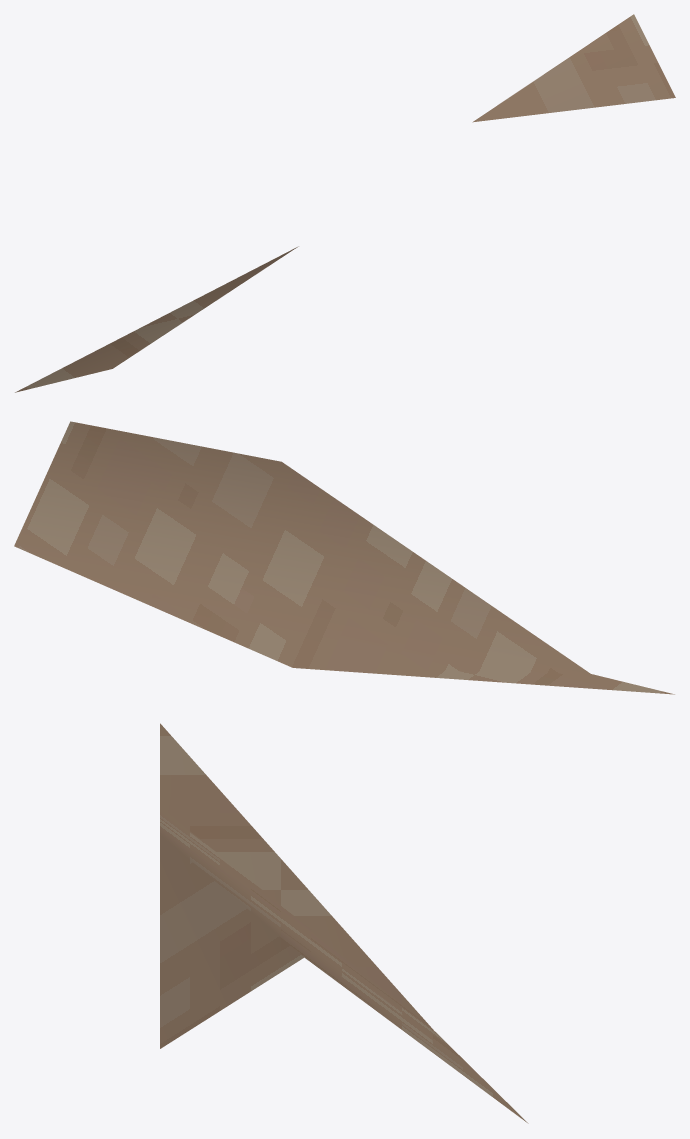
Rendered from kd_stage_135ebf_3_16_bounded.glb.
3 renders of one model, top to bottom at view 1: azimuth 30°, elevation 25°; view 2: azimuth 150°, elevation 25°; view 3: azimuth 270°, elevation 25°, orthographic. The views are drawn at different scales.
Parts seen in each view (by area): view 1: kd_stage_135ebf_3_16_bounded; view 2: kd_stage_135ebf_3_16_bounded; view 3: kd_stage_135ebf_3_16_bounded.
Boxes of the visible parts, <box> form: kd_stage_135ebf_3_16_bounded: <box>15,14,675,392</box>; kd_stage_135ebf_3_16_bounded: <box>14,421,674,694</box>; kd_stage_135ebf_3_16_bounded: <box>160,723,528,1123</box>.
Bounding box in the file's own units: 1.99 × 0.5366 × 0.5596.
1 material, 1 textured.
